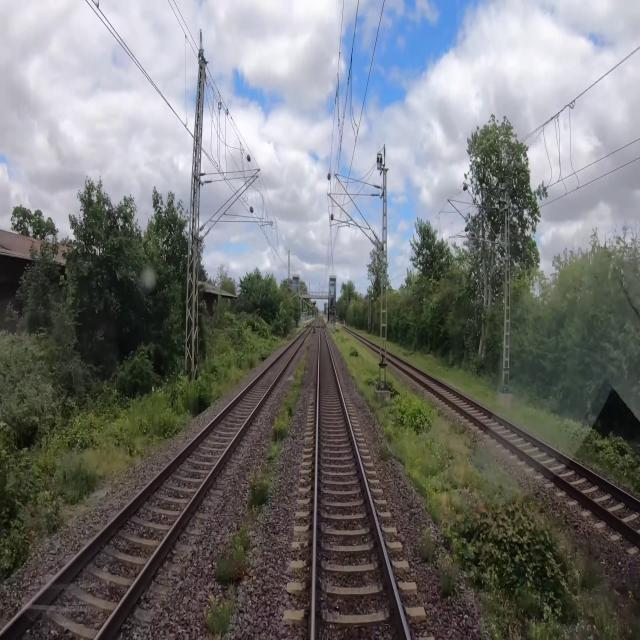Plant: (331, 331, 628, 639), (266, 353, 308, 461), (214, 525, 250, 585), (244, 468, 272, 521), (206, 594, 234, 635), (417, 529, 436, 564), (440, 565, 456, 595), (380, 444, 389, 460)
